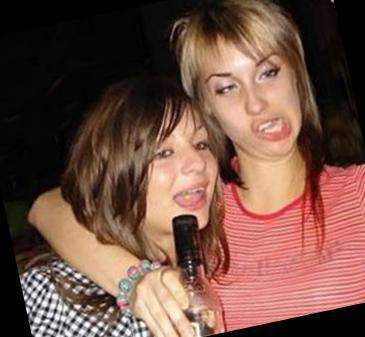Drunk: (207, 44, 302, 151), (139, 114, 218, 223)
